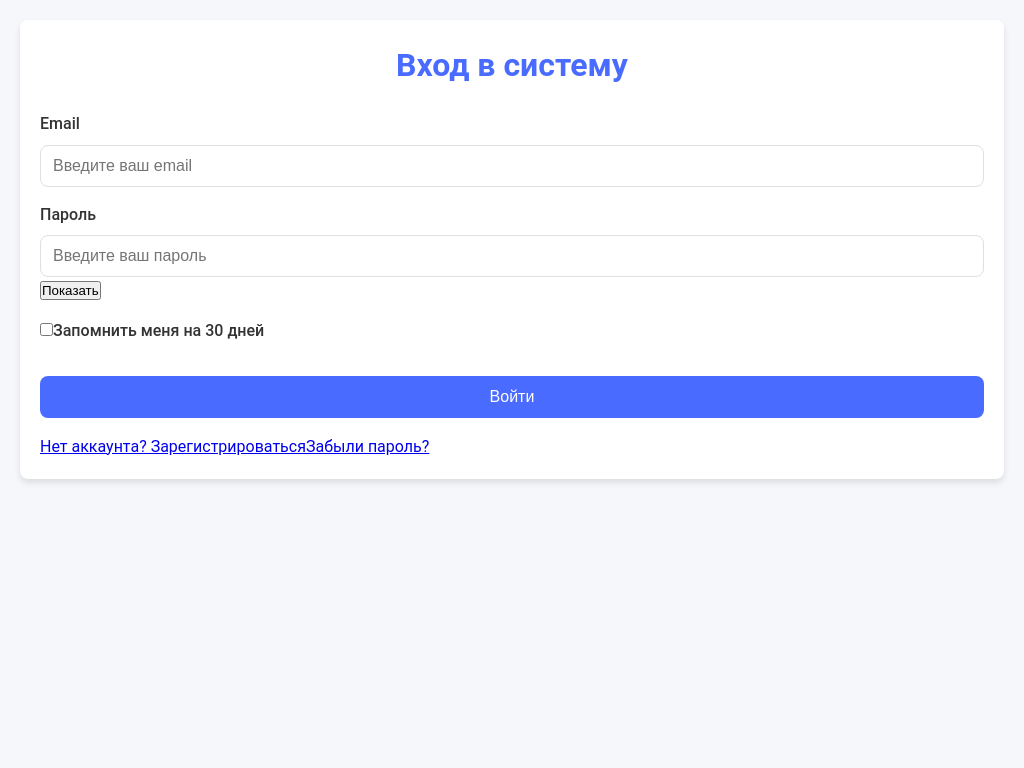
Test: Login Component › показывает сообщение об ошибке при неудачной авторизации
# Заполняем форму
In the field labelled "Email": (512, 166) top-left (40, 145), bottom-right (984, 187), type "test@example.com"
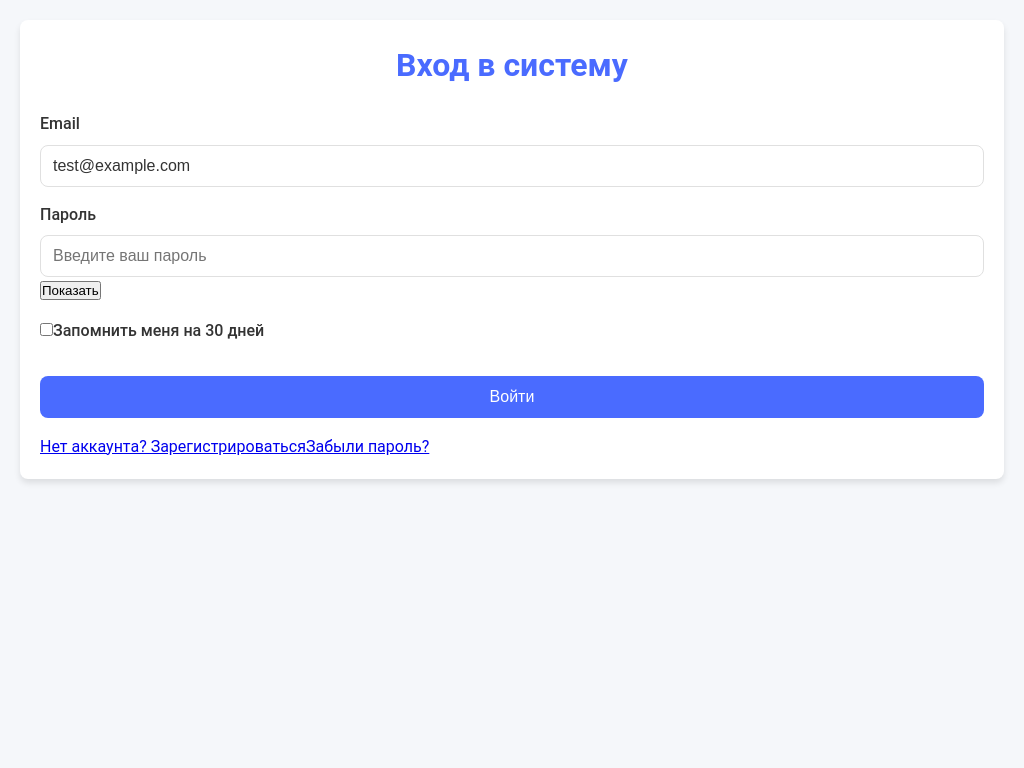
In the password field labelled "Пароль": (512, 256) top-left (40, 235), bottom-right (984, 277), type "wrong_password"
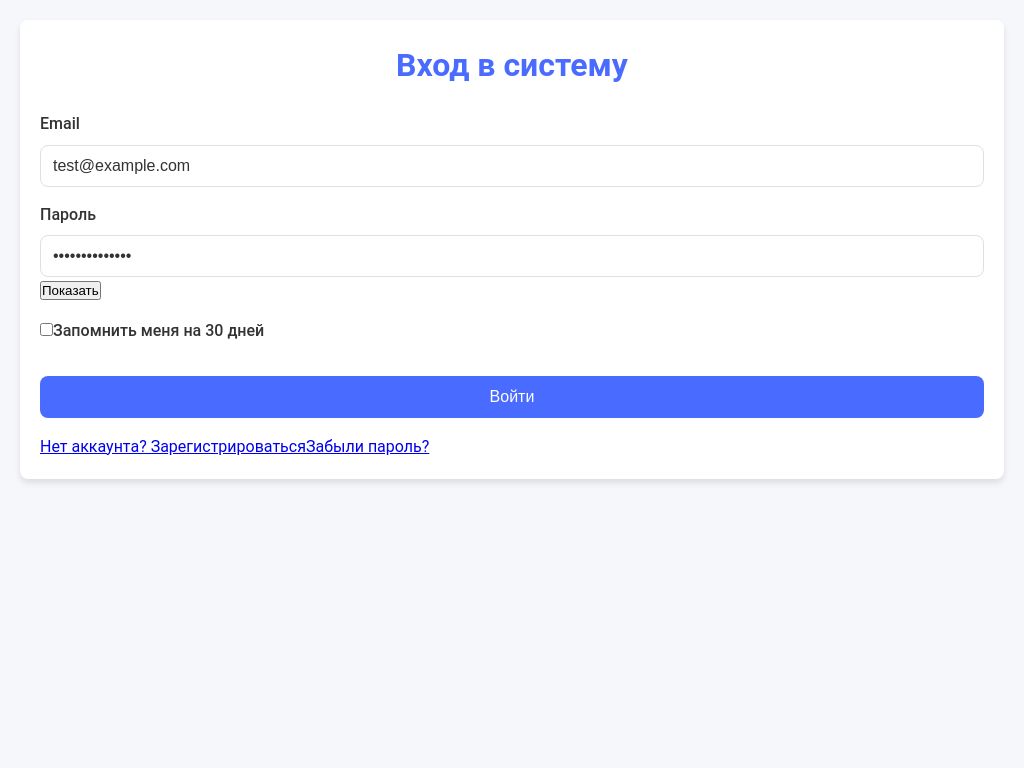
# Отправляем форму
Click the button "Войти": (512, 397) top-left (40, 376), bottom-right (984, 418)
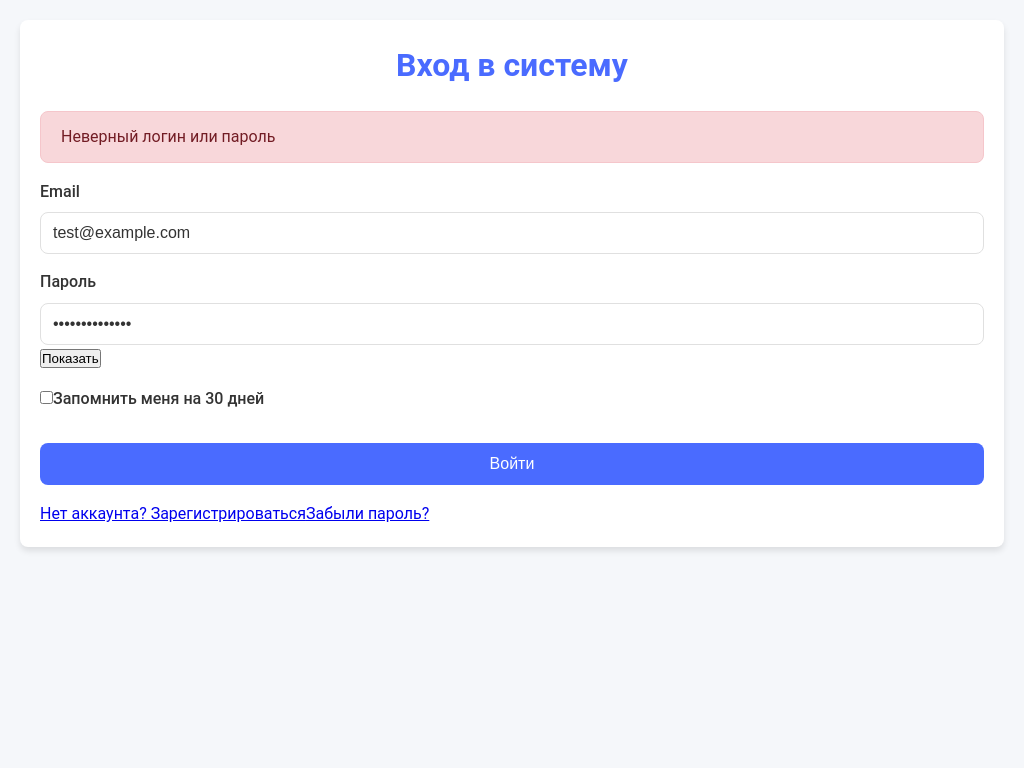
Expected: the text "Неверный логин или пароль" is shown, top-left (40, 111), bottom-right (984, 163)
